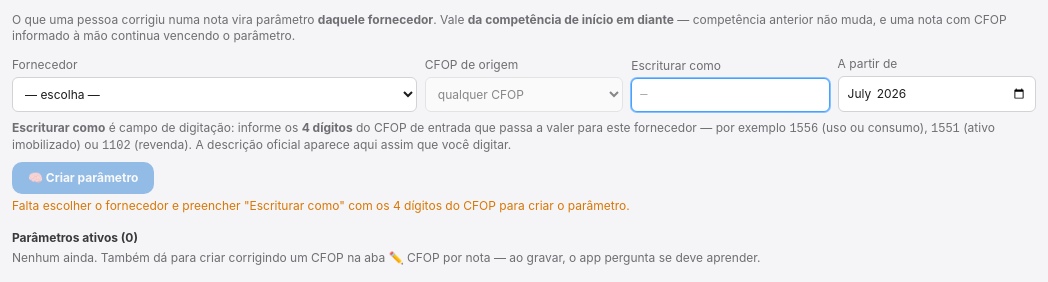
Test: 🚨 o campo "Escriturar como" ACEITA digitação › e enquanto falta algo o botão fica desligado DIZENDO o quê
The image size is (1048, 282).
expect the button "🧠 Criar parâmetro" is disabled: met, box [12,162,154,194]
expect the text "Falta escolher o fornecedor" is shown: met, box [12,198,630,213]
Select "Parnassa Comercio de Tecidos e Aviamentos Ltda (7 notas)" in the dropdown labelled "Fornecedor": (214, 94) [12,77,417,112]
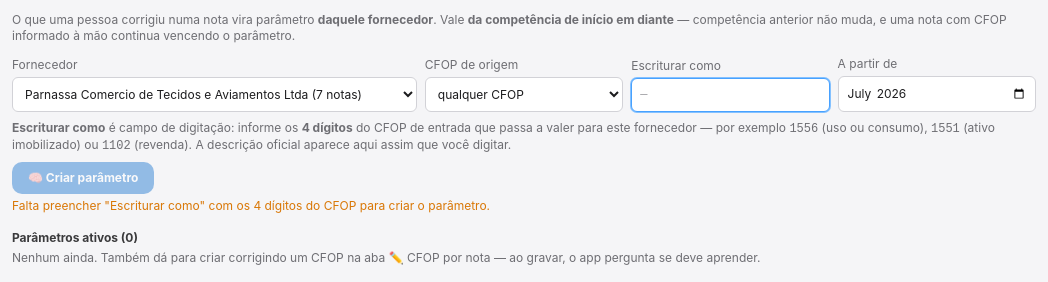
expect the text "Falta preencher \"Escriturar como\"" is shown: met, box [12,198,490,213]
